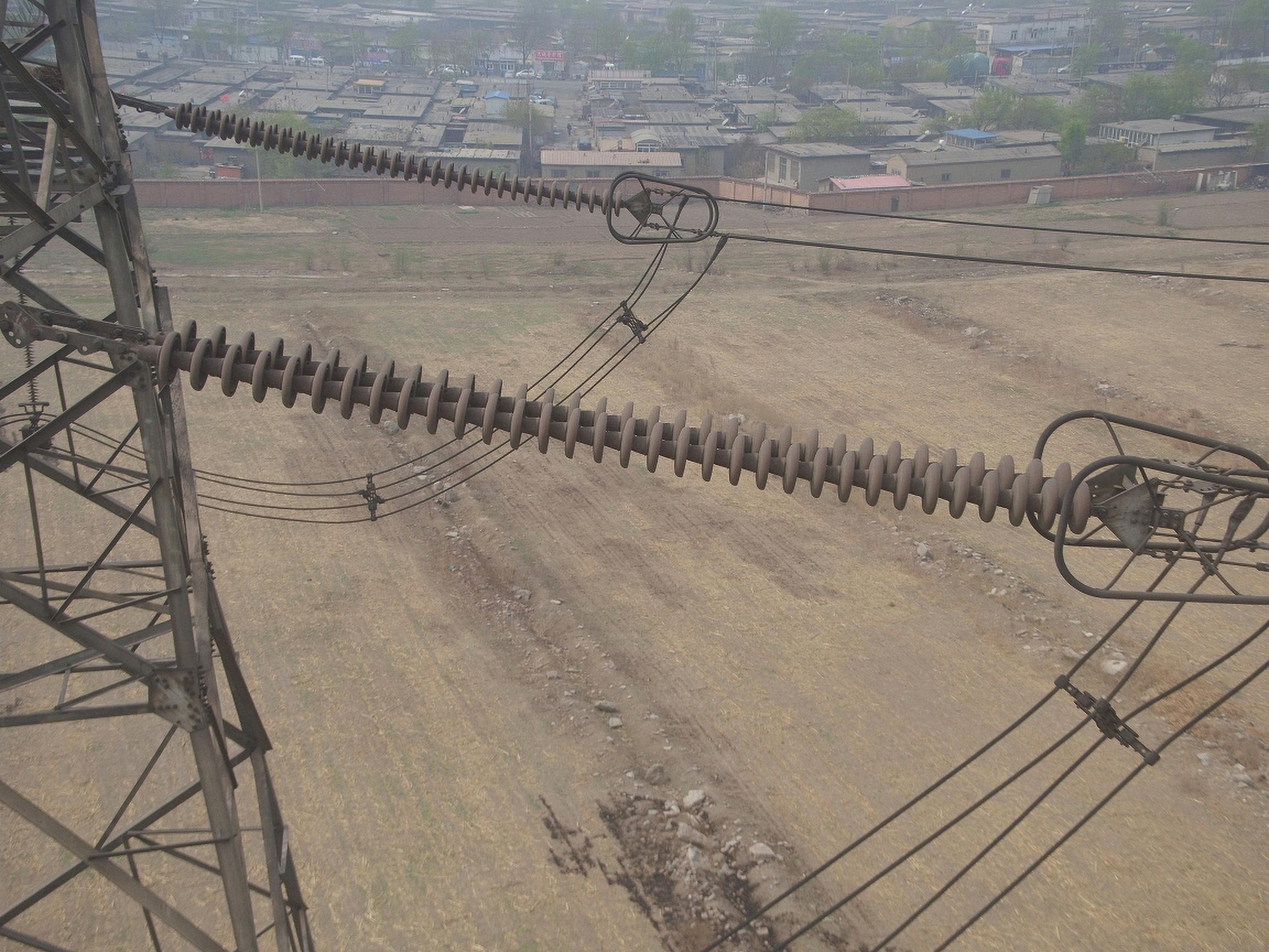insulator: (150, 315, 1096, 538), (172, 99, 628, 220)
